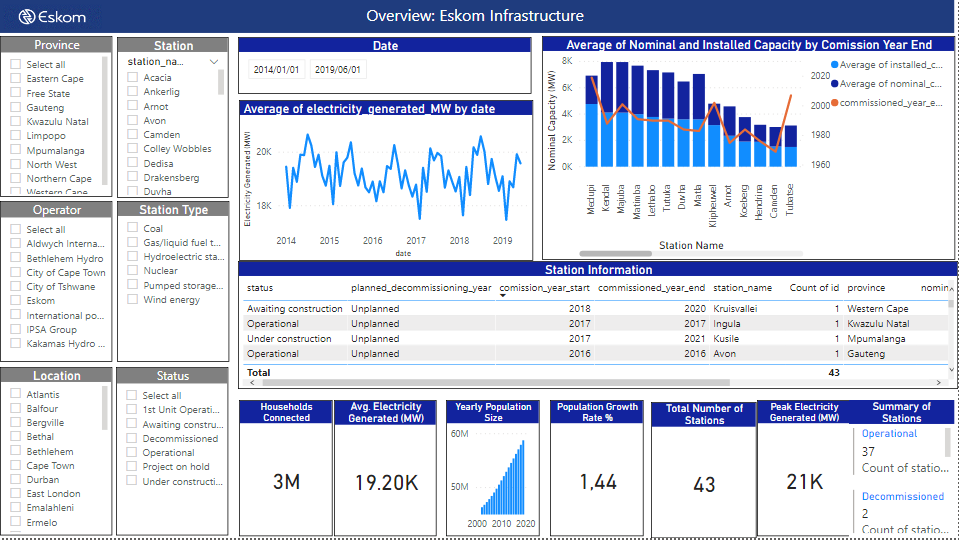

What the dashboard file says about the page in this screenshot:
{"tool":"powerbi","page":{"name":"Infrastructure","canvas":[1280,720],"ordinal":0},"visuals":[{"type":"textbox","box":[-4.8,1.2,1280,43.6],"z":0},{"type":"image","box":[0,2.4,140.6,42.4],"z":1000},{"type":"slicer","title":"Province","fields":{"Values":["province.province"]},"box":[0,49.9,150,215],"z":2000},{"type":"slicer","title":"Status","fields":{"Values":["stations_status_info.status"]},"box":[155.2,491.9,150.3,225.5],"z":3000},{"type":"slicer","title":"Operator","fields":{"Values":["operator.operator_name"]},"box":[0,270.3,150,215],"z":4000},{"type":"slicer","title":"Date","fields":{"Values":["national_electricity_generated_monthly.date"]},"box":[318.2,51,392.1,75.6],"z":5000},{"type":"lineChart","fields":{"Y":["Avg(national_electricity_generated_monthly.electricity_generated_MW)"],"Category":["national_electricity_generated_monthly.date"]},"box":[318.8,134.7,392.7,214.5],"z":6000},{"type":"lineStackedColumnComboChart","title":"Average of Nominal and Installed Capacity by Comission Year End","fields":{"Category":["stations.station_name"],"Y":["Avg(stations_meta_info.installed_capacity)","Avg(stations_dynamics.nominal_capacity_MW)"],"Y2":["Sum(stations_meta_info.commissioned_year_end)"]},"box":[723.6,49.9,551.5,299.4],"z":7000},{"type":"tableEx","title":"Station Information","fields":{"Values":["stations_status_info.status","stations_dynamics.planned_decommissioning_year","stations_meta_info.comission_year_start","stations_meta_info.commissioned_year_end","stations.station_name","CountNonNull(stations.id)","province.province","stations_dynamics.nominal_capacity_MW","operator.operator_name","stations_meta_info.installed_capacity"]},"box":[318.2,349.9,961.8,170.5],"z":8000},{"type":"card","title":"Households Connected","fields":{"Values":["Sum(provincial_electricity_generated.household_count)"]},"box":[318.8,535.6,124.8,181.8],"z":9000},{"type":"clusteredColumnChart","title":"Yearly Population Size","fields":{"Y":["Sum(population.population_size)"],"Category":["population.year"]},"box":[596.4,535.6,124.8,181.8],"z":10000},{"type":"card","title":"Peak Electricity Generated (MW)","fields":{"Values":["Max(national_electricity_generated_monthly.electricity_generated_MW)"]},"box":[1010.9,535.6,124.8,181.8],"z":11000},{"type":"card","title":"Population Growth Rate %","fields":{"Values":["Min(population.YoY Population Growth)"]},"box":[734.5,535.6,124.8,181.8],"z":12000},{"type":"slicer","title":"Location","fields":{"Values":["location.location"]},"box":[0,491.9,150,225.5],"z":13000},{"type":"slicer","title":"Station","fields":{"Values":["stations.station_name"]},"box":[156.5,51,149.5,214.5],"z":14000},{"type":"slicer","title":"Station Type","fields":{"Values":["stations_type_info.station_type"]},"box":[156,270.3,150,215],"z":15000},{"type":"card","title":"Avg. Electricity Generated (MW)","fields":{"Values":["Avg(national_electricity_generated_monthly.electricity_generated_MW)"]},"box":[446.5,536.3,136.7,181.6],"z":16000},{"type":"card","title":"Total Number of Stations","fields":{"Values":["CountNonNull(stations.id)"]},"box":[869.6,538.4,141,181.6],"z":17000},{"type":"multiRowCard","title":"Summary of Stations","fields":{"Values":["stations.station_name","stations_status_info.status"]},"box":[1134.1,536.3,140.7,182.9],"z":18000}]}

Visuals, with their boxes in screenshot pixels (x1, y1, x2, y2), scaled from the page's 1280x720 canvas onto the 959x541 screenshot:
textbox: [left=0, top=1, right=955, bottom=34]
image: [left=0, top=2, right=105, bottom=34]
"Province" slicer: [left=0, top=37, right=112, bottom=199]
"Status" slicer: [left=116, top=370, right=229, bottom=539]
"Operator" slicer: [left=0, top=203, right=112, bottom=365]
"Date" slicer: [left=238, top=38, right=532, bottom=95]
lineChart - Avg(national_electricity_generated_monthly.electricity_generated_MW) x national_electricity_generated_monthly.date: [left=239, top=101, right=533, bottom=262]
"Average of Nominal and Installed Capacity by Comission Year End" lineStackedColumnComboChart: [left=542, top=37, right=955, bottom=262]
"Station Information" tableEx: [left=238, top=263, right=958, bottom=391]
"Households Connected" card: [left=239, top=402, right=332, bottom=539]
"Yearly Population Size" clusteredColumnChart: [left=447, top=402, right=540, bottom=539]
"Peak Electricity Generated (MW)" card: [left=757, top=402, right=851, bottom=539]
"Population Growth Rate %" card: [left=550, top=402, right=644, bottom=539]
"Location" slicer: [left=0, top=370, right=112, bottom=539]
"Station" slicer: [left=117, top=38, right=229, bottom=199]
"Station Type" slicer: [left=117, top=203, right=229, bottom=365]
"Avg. Electricity Generated (MW)" card: [left=335, top=403, right=437, bottom=539]
"Total Number of Stations" card: [left=652, top=405, right=757, bottom=540]
"Summary of Stations" multiRowCard: [left=850, top=403, right=955, bottom=540]
